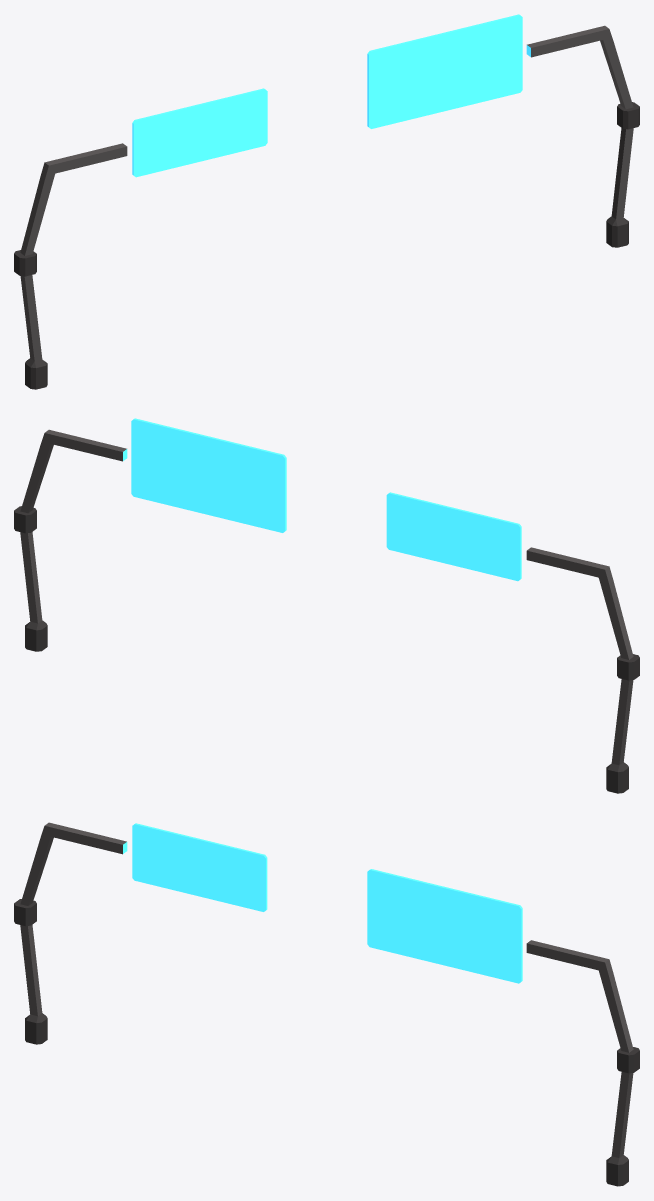
Rendered from scifi_scifi-mainroad-sign.fbx.
The picture shows the model from 3 angles, top to bottom: view 1: azimuth 30°, elevation 25°; view 2: azimuth 150°, elevation 25°; view 3: azimuth 330°, elevation 25°; orthographic projection.
Visible parts, largest first — view 1: scifi_scifi_mainroad_sign; view 2: scifi_scifi_mainroad_sign; view 3: scifi_scifi_mainroad_sign.
Boxes of the visible parts, left/top/right/bottom form: scifi_scifi_mainroad_sign: left=14, top=14, right=639, bottom=389; scifi_scifi_mainroad_sign: left=14, top=418, right=639, bottom=793; scifi_scifi_mainroad_sign: left=14, top=822, right=639, bottom=1186.
Bounding box in the file's own units: 200 × 77.65 × 5.5.
